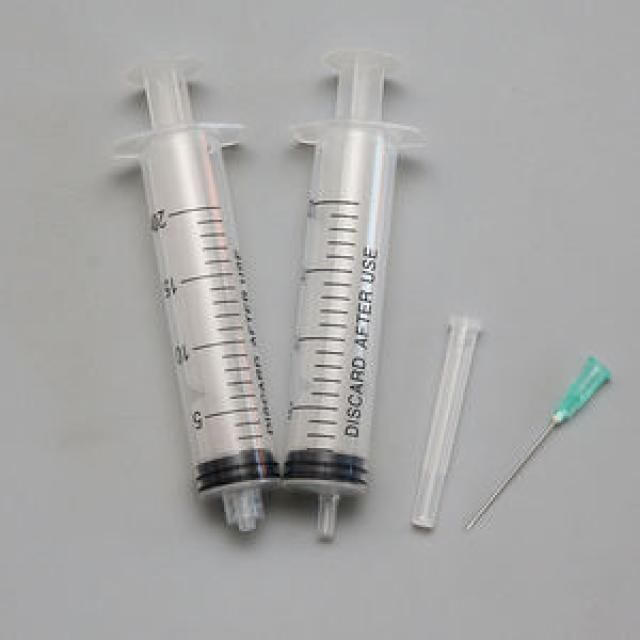B3: (88, 38, 278, 550), (275, 43, 416, 550)
